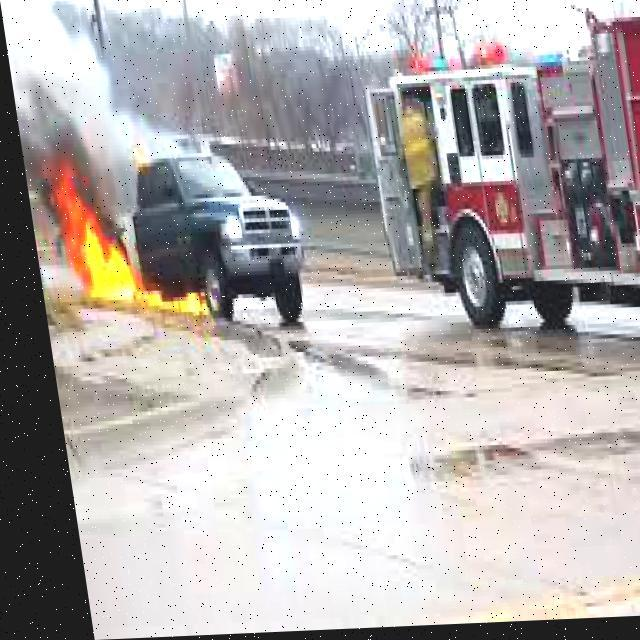Fire: (26, 140, 210, 344)
